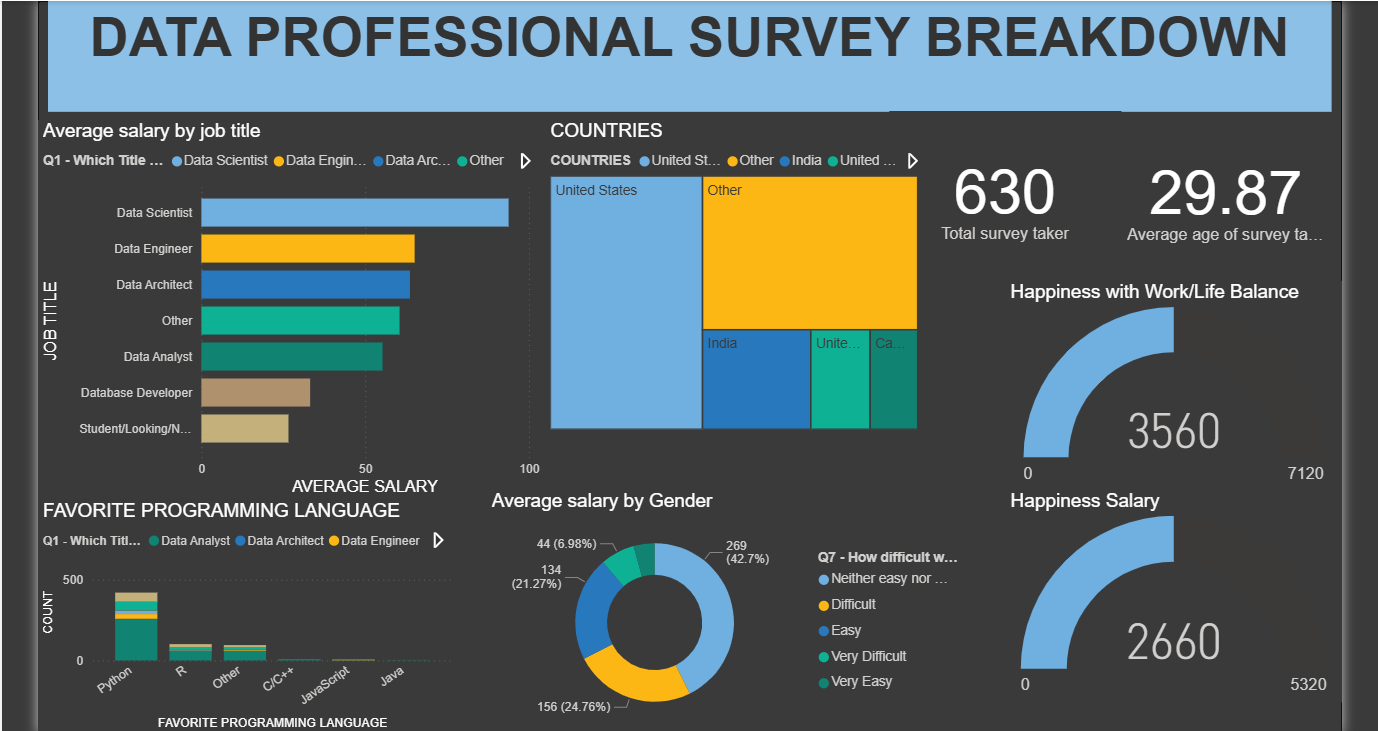

What the dashboard file says about the page in this screenshot:
{"tool":"powerbi","page":{"name":"Page 1","canvas":[1280,720],"ordinal":0},"visuals":[{"type":"textbox","box":[9.6,0,1259.7,108.4],"z":0},{"type":"card","fields":{"Values":["Count(Data Professional Survey.Unique ID)"]},"box":[835.7,108.4,227.8,166],"z":1},{"type":"card","fields":{"Values":["Avg(Data Professional Survey.Q10 - Current Age)"]},"box":[1062.1,116.6,207.2,150.9],"z":2},{"type":"barChart","title":"Average salary by job title","fields":{"Category":["Data Professional Survey.Q1 - Which Title Best Fits your Current Role?.1"],"Y":["Avg(Data Professional Survey.Average)"],"Series":["Data Professional Survey.Q1 - Which Title Best Fits your Current Role?.1"]},"box":[0,116.6,498.1,373.2],"z":3},{"type":"columnChart","title":"FAVORITE PROGRAMMING LANGUAGE","fields":{"Category":["Data Professional Survey.Q5 - Favorite Programming Language.1"],"Y":["CountNonNull(Data Professional Survey.Unique ID)"],"Series":["Data Professional Survey.Q1 - Which Title Best Fits your Current Role?.1"]},"box":[0,489.9,411.7,230.5],"z":4},{"type":"treemap","title":"COUNTRIES","fields":{"Values":["CountNonNull(Data Professional Survey.Q11 - Which Country do you live in?.1)"],"Group":["Data Professional Survey.Q11 - Which Country do you live in?.1"]},"box":[498.1,116.6,370.5,308.7],"z":5},{"type":"gauge","title":"Happiness with Work/Life Balance","fields":{"Y":["Sum(Data Professional Survey.Q6 - How Happy are you in your Current Position with the following? (Work/Life Balance))"]},"box":[949.6,274.4,330.7,205.8],"z":6},{"type":"gauge","title":"Happiness Salary","fields":{"Y":["Sum(Data Professional Survey.Q6 - How Happy are you in your Current Position with the following? (Salary))"]},"box":[949.6,480.3,330.7,208.6],"z":7},{"type":"donutChart","title":"Average salary by Gender","fields":{"Y":["CountNonNull(Data Professional Survey.Q9 - Male/Female?)"],"Category":["Data Professional Survey.Q7 - How difficult was it for you to break into Data?"]},"box":[440.5,480.3,467.9,240.1],"z":8}]}

Visuals, with their boxes on the page's 1280x720 design canvas (x1, y1, x2, y2). These are canvas units, not pixel positions in the 1378x731 screenshot, which may show the page scaled, cropped or inside an application window:
textbox: 10/0/1269/108
card - Count(Data Professional Survey.Unique ID): 836/108/1064/274
card - Avg(Data Professional Survey.Q10 - Current Age): 1062/117/1269/268
"Average salary by job title" barChart: 0/117/498/490
"FAVORITE PROGRAMMING LANGUAGE" columnChart: 0/490/412/720
"COUNTRIES" treemap: 498/117/869/425
"Happiness with Work/Life Balance" gauge: 950/274/1280/480
"Happiness Salary" gauge: 950/480/1280/689
"Average salary by Gender" donutChart: 440/480/908/720
